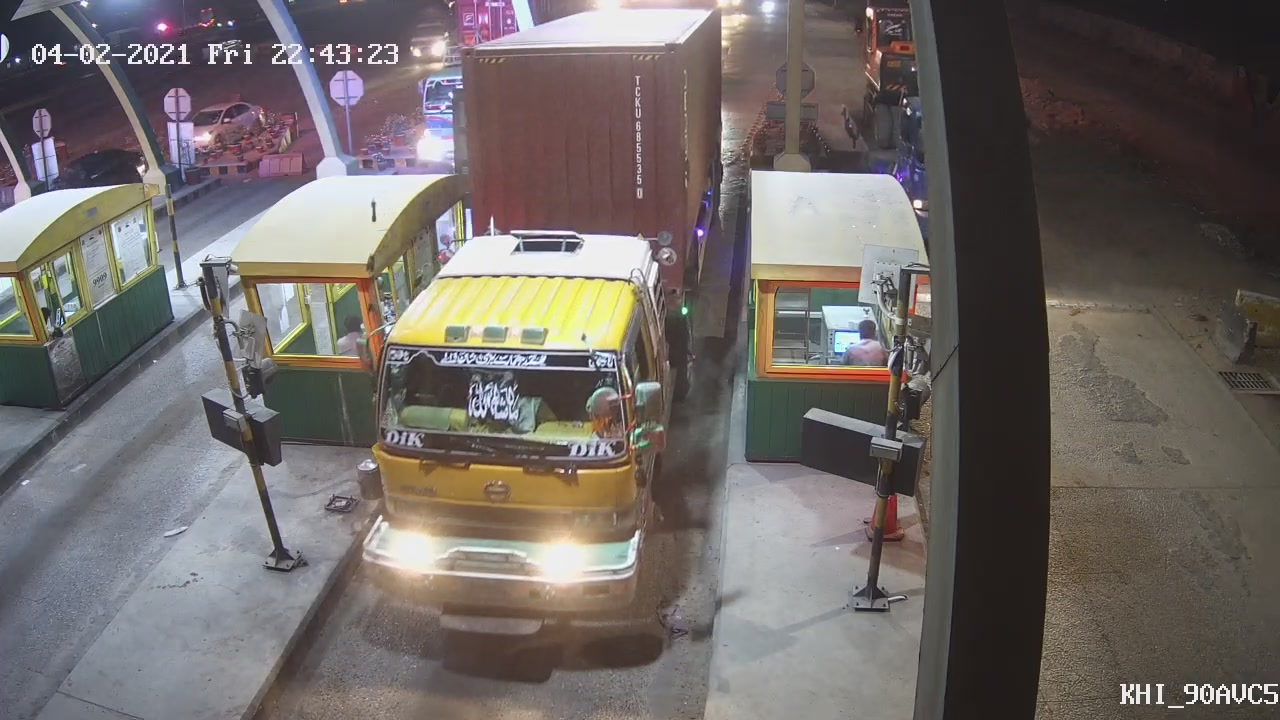F6: (340, 1, 734, 647)
